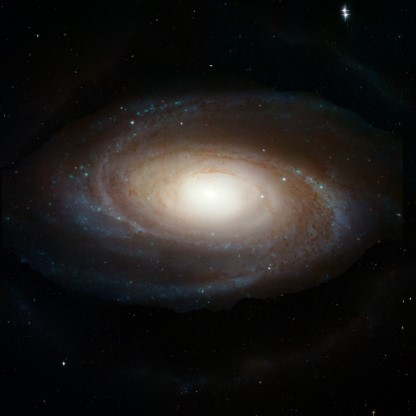Messier 81: (26, 3, 400, 319)
